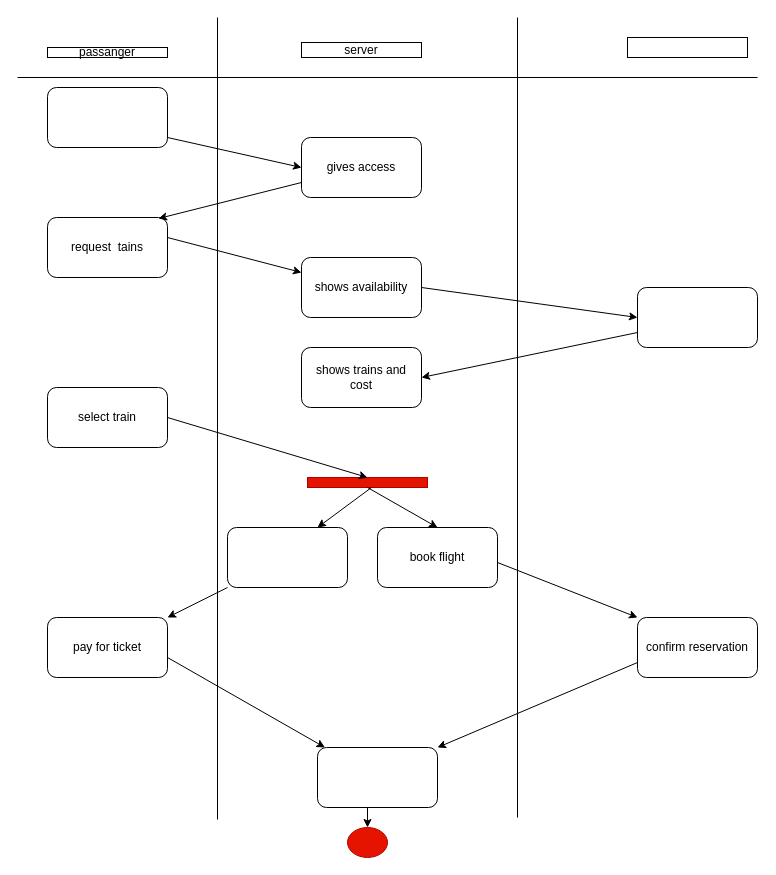
This 776x875 diagram has some shape labels left out. Each missing label, with the box of its shape:
generate ticket: (316, 746, 438, 808)
login: (46, 86, 168, 148)
provide train details: (636, 286, 758, 348)
request payment: (226, 526, 348, 588)
system: (626, 36, 748, 58)
